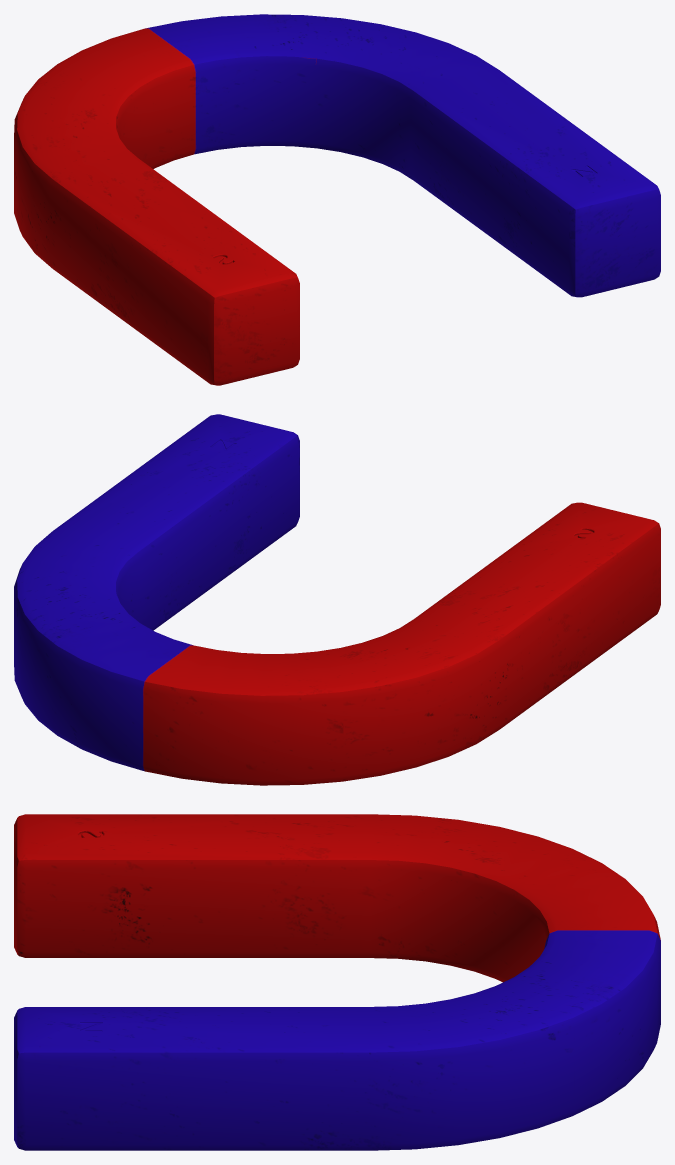
File: magnet.glb
3 renders of one model, top to bottom at view 1: azimuth 30°, elevation 25°; view 2: azimuth 150°, elevation 25°; view 3: azimuth 270°, elevation 25°, orthographic. The views are drawn at different scales.
Visible parts, largest first — view 1: Plane_magnet_0; view 2: Plane_magnet_0; view 3: Plane_magnet_0.
Part boxes in pixels (x1,y1,x2,y2): Plane_magnet_0: (14,14,660,385); Plane_magnet_0: (14,414,660,785); Plane_magnet_0: (14,814,660,1150).
Size of the model in its own units: 9.93 by 2 by 11.26.
1 material, 1 textured.
